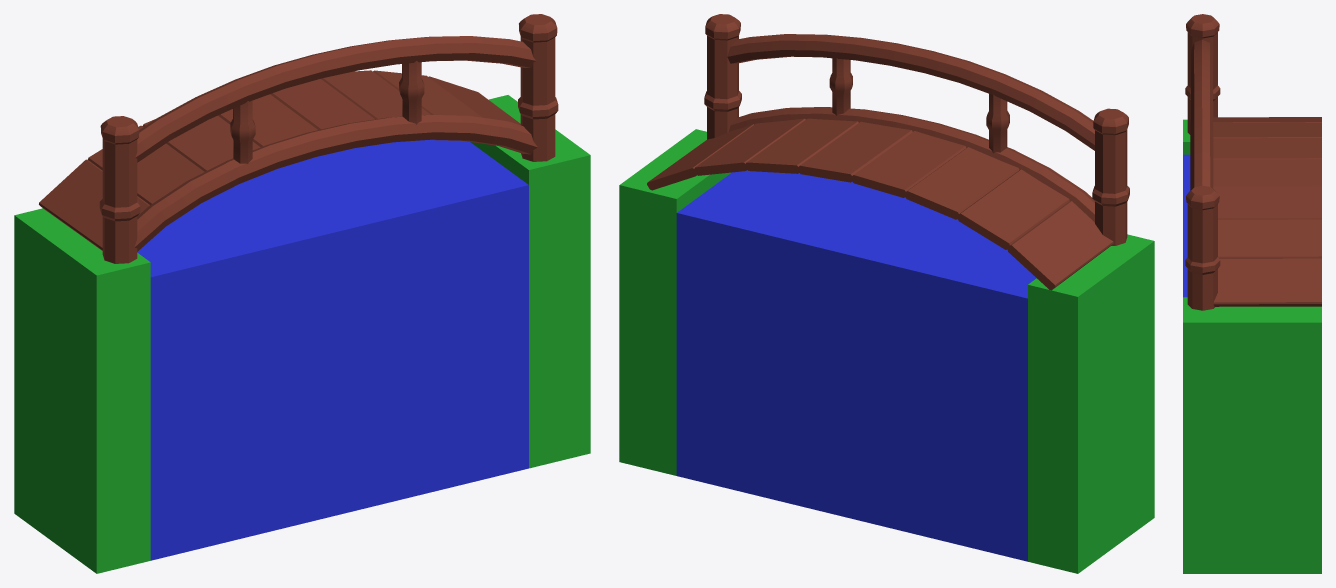
The model's file is module-edge_river_bridge_002.glb.
The picture shows the model from 3 angles, left to right: view 1: azimuth 30°, elevation 25°; view 2: azimuth 150°, elevation 25°; view 3: azimuth 270°, elevation 25°; orthographic projection. The views are drawn at different scales.
Parts seen in each view (by area): view 1: module-edge_river_bridge_002; view 2: module-edge_river_bridge_002; view 3: module-edge_river_bridge_002.
Boxes of the visible parts, <box> form: module-edge_river_bridge_002: <box>14,14,590,573</box>; module-edge_river_bridge_002: <box>619,14,1154,573</box>; module-edge_river_bridge_002: <box>1183,14,1321,573</box>.
Size of the model in its own units: 0.866 by 0.7618 by 0.2503.
